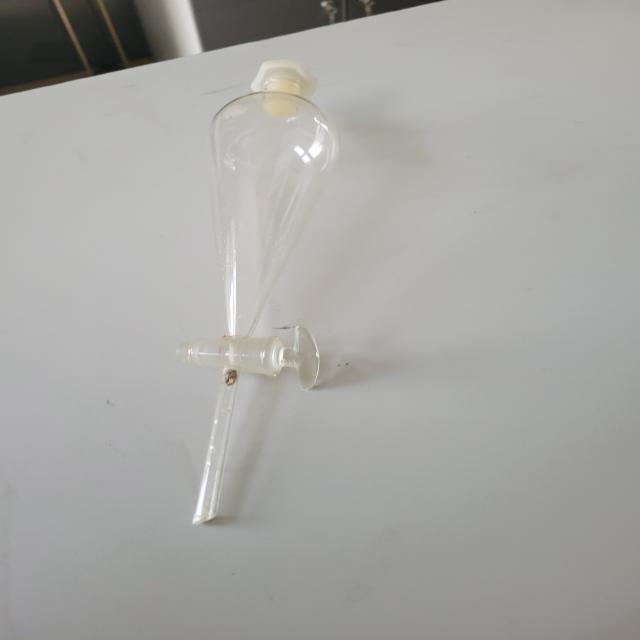Separating_Funnel: (166, 32, 382, 548)
